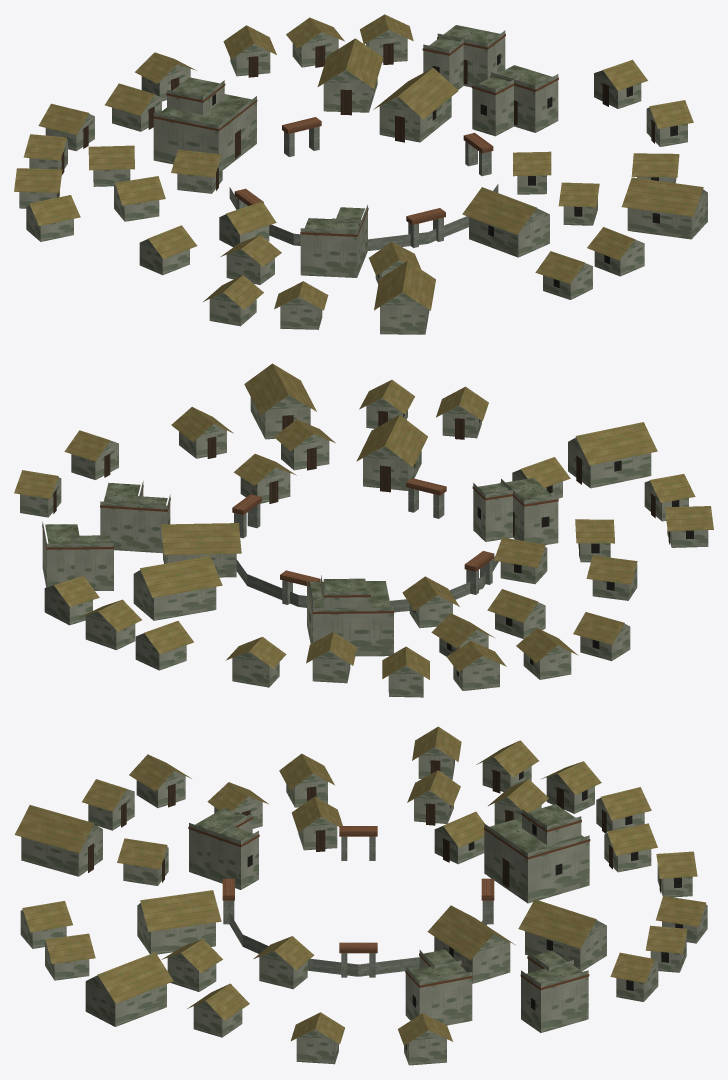
Rendered from ae_jungle_neighbourhood_stone_lod2.glb.
3 views of the same model, one above another, from view 1: azimuth 30°, elevation 25°; view 2: azimuth 150°, elevation 25°; view 3: azimuth 270°, elevation 25° (orthographic). The views are drawn at different scales.
Visible parts, largest first — view 1: ae_jungle_neighbourhood_stone_lod2; view 2: ae_jungle_neighbourhood_stone_lod2; view 3: ae_jungle_neighbourhood_stone_lod2.
Boxes of the visible parts, bbox=[...] form: ae_jungle_neighbourhood_stone_lod2: bbox=[14, 14, 707, 334]; ae_jungle_neighbourhood_stone_lod2: bbox=[14, 363, 713, 697]; ae_jungle_neighbourhood_stone_lod2: bbox=[14, 726, 707, 1065].
Size of the model in its own units: 1.89 by 0.1882 by 1.82.
1 material, 1 textured.
